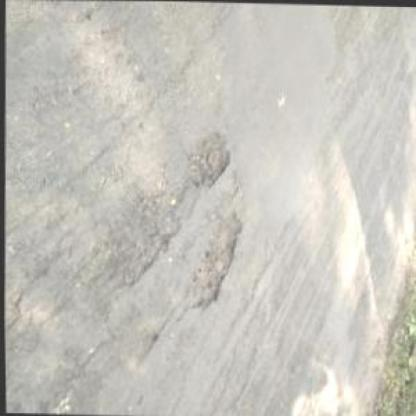pothole: (98, 184, 178, 291), (187, 206, 244, 314), (180, 128, 230, 190)
